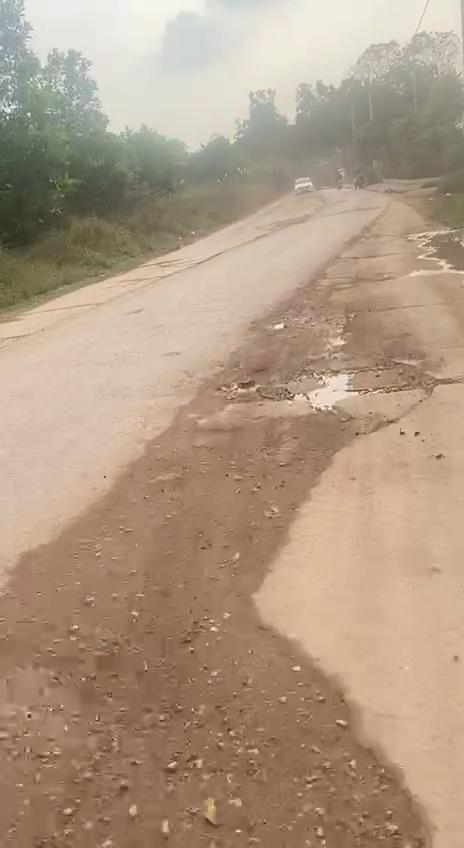pothole: (290, 356, 377, 427)
